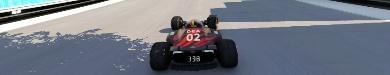Car: (148, 14, 238, 70)
